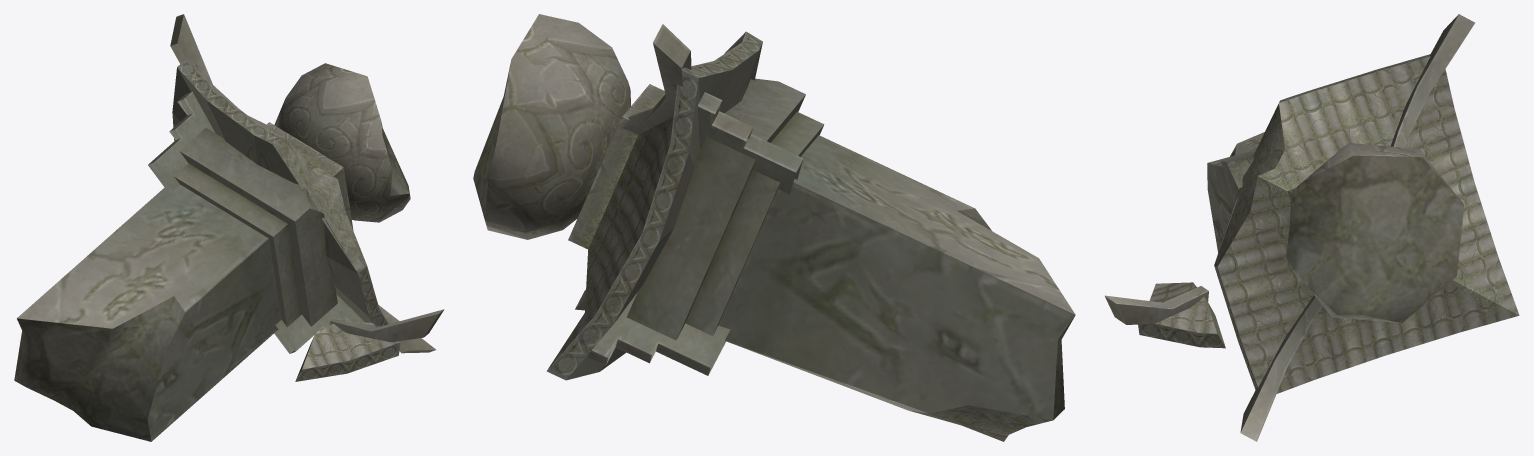
Rendered from wlf_wujian13_jgc.FBX.
3 views of the same model, side by side, from view 1: azimuth 30°, elevation 25°; view 2: azimuth 150°, elevation 25°; view 3: azimuth 270°, elevation 25° (orthographic). The views are drawn at different scales.
Parts seen in each view (by area): view 1: wlf_wujian13_jgc; view 2: wlf_wujian13_jgc; view 3: wlf_wujian13_jgc.
Boxes of the visible parts, x1,y1,x2,y2 form: wlf_wujian13_jgc: (14,14,444,441); wlf_wujian13_jgc: (473,14,1075,441); wlf_wujian13_jgc: (1105,14,1519,441).
Bounding box in the file's own units: 14.84 × 11 × 11.65.
